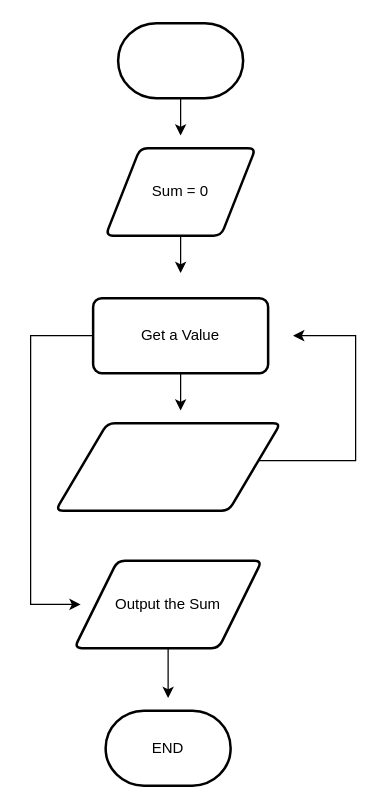
Some shapes in this 388 by 808 pixel diagram are drawn without their labels. The centre of each missing label's shape, as x and y in pixels:
"START" goes at point 180,60.
"Sum = sum + value" goes at point 167,466.
